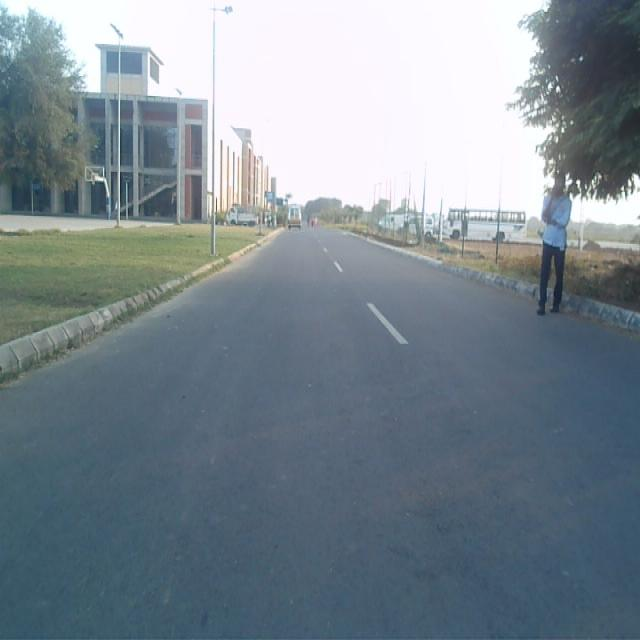lane: (0, 232, 640, 640)
